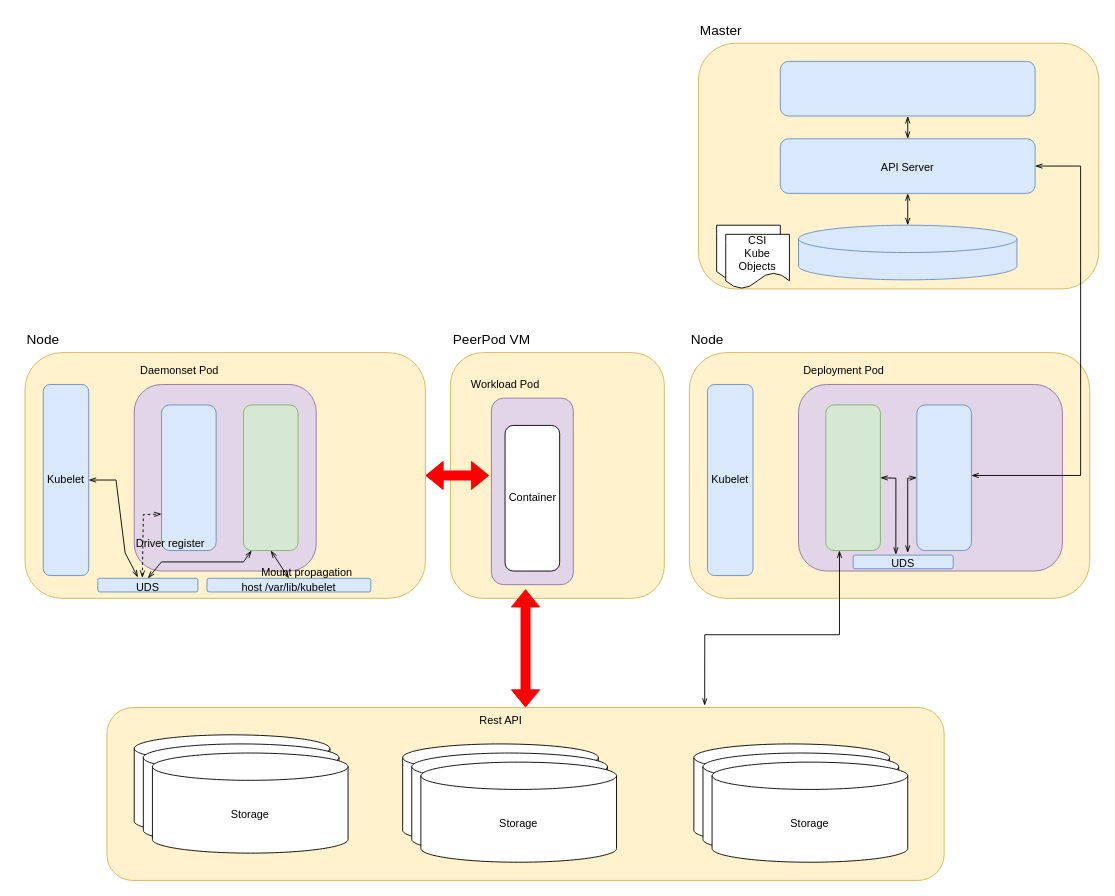
The diagram is 1115 pixels wide and 896 high, and some of its shapes have lost their labels. Here are the shapes that lost their labels. From the top down, the box of each, then its label:
(779, 61, 1035, 116): Kube Controller Manager
(798, 224, 1017, 280): ETCD
(161, 404, 216, 551): CSI Sidecars
(243, 404, 298, 551): Node Plugin
(825, 404, 880, 551): Controller Plugin
(916, 404, 971, 551): CSI Sidecars external-attacher external-provisioner ...
